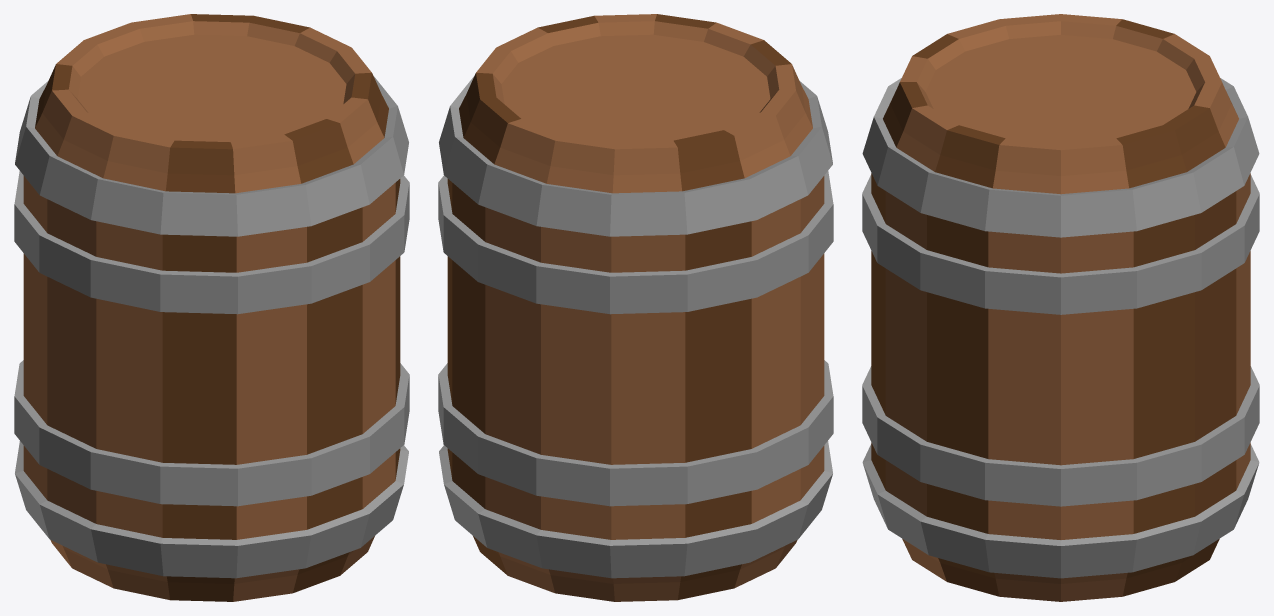
Rendered from Barril.fbx.
3 views of the same model, side by side, from view 1: azimuth 30°, elevation 25°; view 2: azimuth 150°, elevation 25°; view 3: azimuth 270°, elevation 25° (orthographic).
Parts seen in each view (by area): view 1: Cylinder; view 2: Cylinder; view 3: Cylinder.
Part boxes in pixels (<box>): Cylinder: <box>14,14,409,601</box>; Cylinder: <box>438,14,833,601</box>; Cylinder: <box>862,14,1259,601</box>.
Size of the model in its own units: 2.73 by 3.42 by 2.73.
